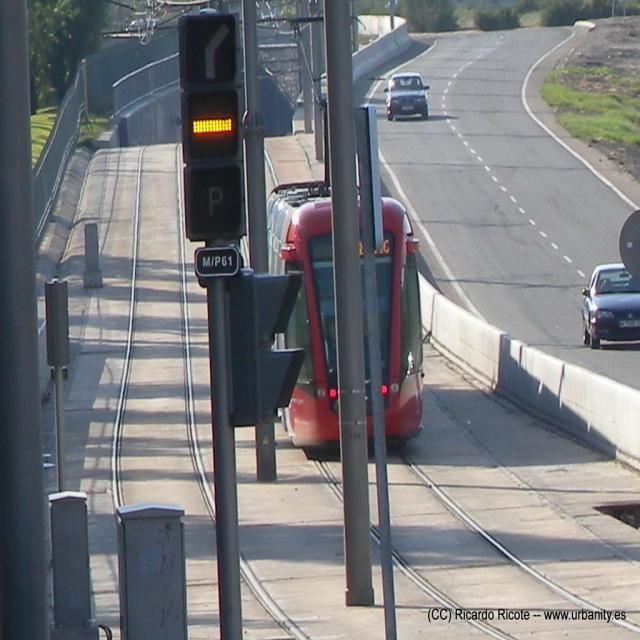traffic light: (178, 13, 247, 240)
